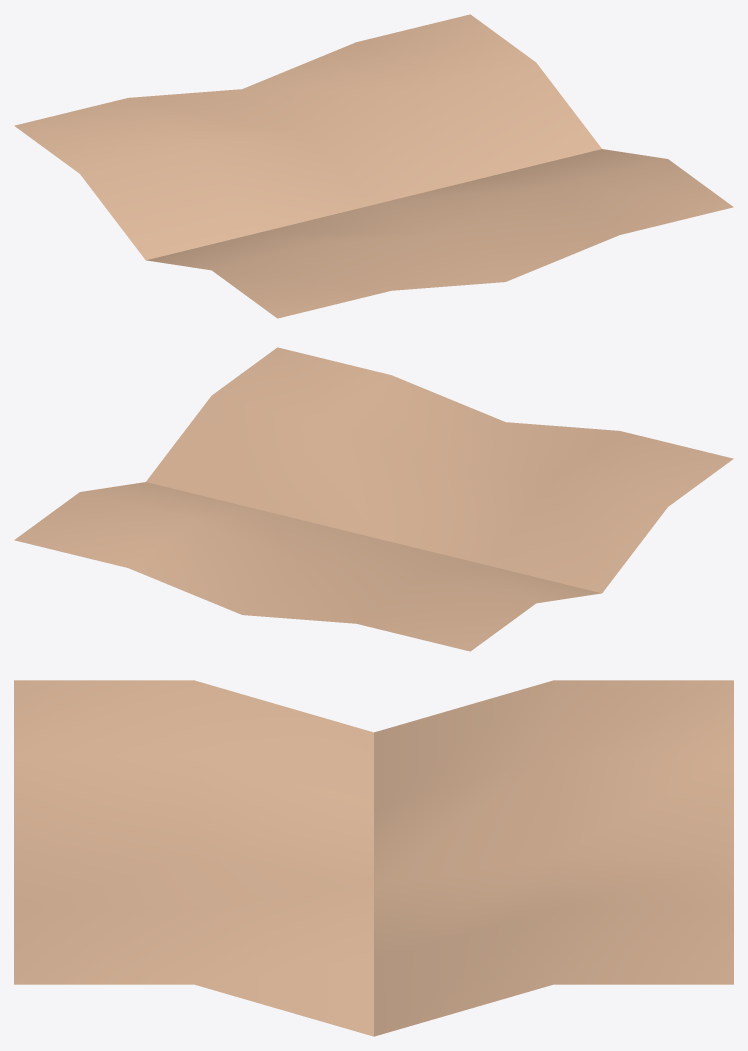
The model's file is groundTileRough.glb.
3 renders of one model, top to bottom at view 1: azimuth 30°, elevation 25°; view 2: azimuth 150°, elevation 25°; view 3: azimuth 270°, elevation 25°, orthographic. The views are drawn at different scales.
Visible parts, largest first — view 1: groundTileRough; view 2: groundTileRough; view 3: groundTileRough.
Part boxes in pixels (left/top/right/bottom): groundTileRough: left=14, top=14, right=733, bottom=318; groundTileRough: left=14, top=347, right=733, bottom=651; groundTileRough: left=14, top=680, right=733, bottom=1036.
Size of the model in its own units: 10 by 0.8 by 10.
